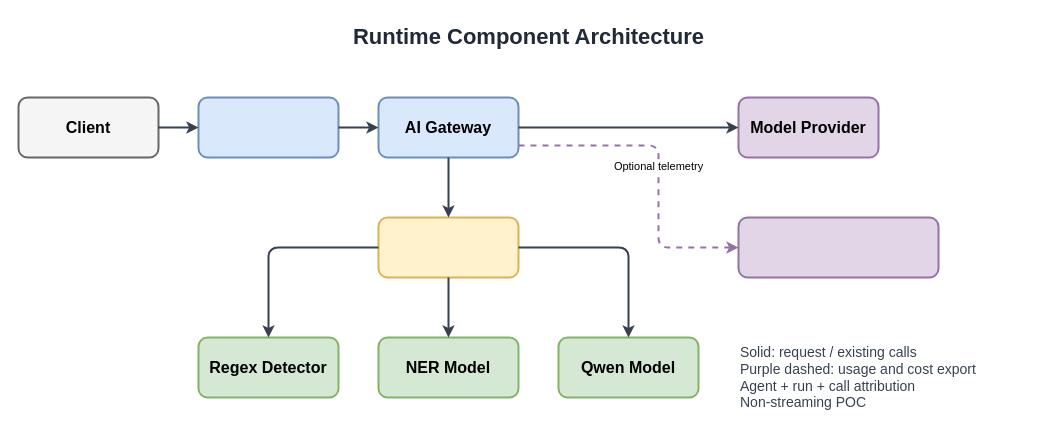
The diagram is 1055 pixels wide and 444 high, and some of its shapes have lost their labels. Here are the shapes that lost their labels. From the top down, the centre of each, then its label:
At point (268, 127): "API Gateway".
At point (448, 247): "AI Guardrail Service".
At point (838, 247): "Self-hosted Langfuse".
